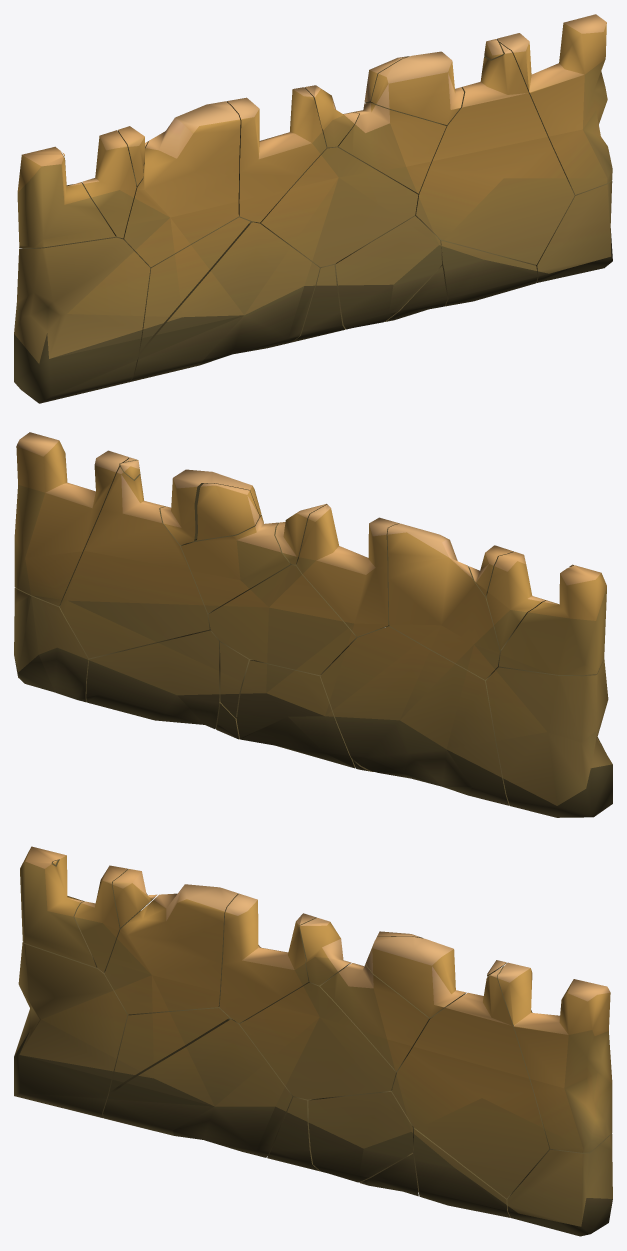
The model's file is G MuroDePiedraMeshFracture.fbx.
The picture shows the model from 3 angles, top to bottom: view 1: azimuth 30°, elevation 25°; view 2: azimuth 150°, elevation 25°; view 3: azimuth 330°, elevation 25°; orthographic projection.
Visible parts, largest first — view 1: MuroDePiedra.001_cell.004, MuroDePiedra.001_cell.017, MuroDePiedra.001_cell.006, MuroDePiedra.001_cell.011, MuroDePiedra.001_cell.014, MuroDePiedra.001_cell.001, MuroDePiedra.001_cell.016, MuroDePiedra.001_cell.002, MuroDePiedra.001_cell, MuroDePiedra.001_cell.013, MuroDePiedra.001_cell.007, MuroDePiedra.001_cell.015 (+7 smaller); view 2: MuroDePiedra.001_cell.015, MuroDePiedra.001_cell.004, MuroDePiedra.001_cell.017, MuroDePiedra.001_cell.011, MuroDePiedra.001_cell.001, MuroDePiedra.001_cell.014, MuroDePiedra.001_cell.003, MuroDePiedra.001_cell, MuroDePiedra.001_cell.018, MuroDePiedra.001_cell.002, MuroDePiedra.001_cell.007, MuroDePiedra.001_cell.013 (+7 smaller); view 3: MuroDePiedra.001_cell.004, MuroDePiedra.001_cell.006, MuroDePiedra.001_cell.017, MuroDePiedra.001_cell.001, MuroDePiedra.001_cell.011, MuroDePiedra.001_cell.014, MuroDePiedra.001_cell.016, MuroDePiedra.001_cell.007, MuroDePiedra.001_cell.002, MuroDePiedra.001_cell, MuroDePiedra.001_cell.013, MuroDePiedra.001_cell.019 (+7 smaller).
Boxes of the visible parts, x1=… form: MuroDePiedra.001_cell.004: x1=404, y1=42, x2=574, y2=264; MuroDePiedra.001_cell.017: x1=14, y1=236, x2=150, y2=403; MuroDePiedra.001_cell.006: x1=129, y1=222, x2=319, y2=382; MuroDePiedra.001_cell.011: x1=116, y1=101, x2=240, y2=266; MuroDePiedra.001_cell.014: x1=260, y1=146, x2=418, y2=267; MuroDePiedra.001_cell.001: x1=496, y1=14, x2=612, y2=194; MuroDePiedra.001_cell.016: x1=335, y1=215, x2=441, y2=329; MuroDePiedra.001_cell.002: x1=226, y1=87, x2=326, y2=222; MuroDePiedra.001_cell: x1=17, y1=146, x2=115, y2=247; MuroDePiedra.001_cell.013: x1=338, y1=102, x2=446, y2=193; MuroDePiedra.001_cell.007: x1=536, y1=180, x2=612, y2=282; MuroDePiedra.001_cell.015: x1=137, y1=216, x2=261, y2=359; MuroDePiedra.001_cell.015: x1=320, y1=626, x2=509, y2=805; MuroDePiedra.001_cell.004: x1=60, y1=457, x2=211, y2=658; MuroDePiedra.001_cell.017: x1=486, y1=658, x2=612, y2=817; MuroDePiedra.001_cell.011: x1=387, y1=523, x2=501, y2=679; MuroDePiedra.001_cell.001: x1=14, y1=432, x2=129, y2=606; MuroDePiedra.001_cell.014: x1=208, y1=564, x2=383, y2=675; MuroDePiedra.001_cell.003: x1=86, y1=630, x2=219, y2=728; MuroDePiedra.001_cell: x1=499, y1=565, x2=606, y2=675; MuroDePiedra.001_cell.018: x1=236, y1=660, x2=355, y2=768; MuroDePiedra.001_cell.002: x1=296, y1=504, x2=399, y2=636; MuroDePiedra.001_cell.007: x1=14, y1=587, x2=91, y2=702; MuroDePiedra.001_cell.013: x1=181, y1=514, x2=290, y2=613; MuroDePiedra.001_cell.004: x1=392, y1=966, x2=549, y2=1198; MuroDePiedra.001_cell.006: x1=103, y1=1019, x2=292, y2=1157; MuroDePiedra.001_cell.017: x1=14, y1=941, x2=128, y2=1117; MuroDePiedra.001_cell.001: x1=497, y1=962, x2=612, y2=1152; MuroDePiedra.001_cell.011: x1=104, y1=884, x2=238, y2=1014; MuroDePiedra.001_cell.014: x1=239, y1=978, x2=397, y2=1099; MuroDePiedra.001_cell.016: x1=308, y1=1090, x2=412, y2=1182; MuroDePiedra.001_cell.007: x1=507, y1=1133, x2=612, y2=1236; MuroDePiedra.001_cell.002: x1=219, y1=893, x2=316, y2=1023; MuroDePiedra.001_cell: x1=20, y1=846, x2=97, y2=967; MuroDePiedra.001_cell.013: x1=320, y1=963, x2=437, y2=1071; MuroDePiedra.001_cell.019: x1=365, y1=936, x2=466, y2=1017.
Size of the model in its own units: 1487 by 596 by 137.
1 material, 1 textured.
